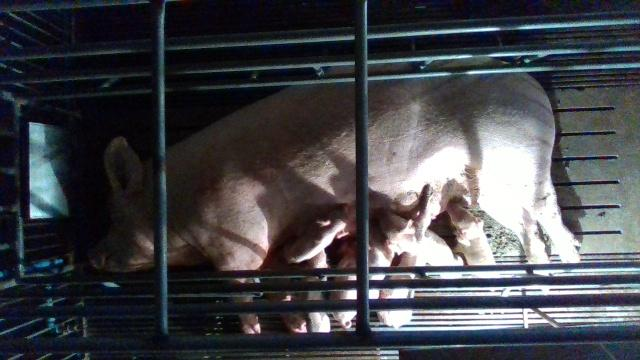piglet: (377, 208, 464, 279), (446, 204, 501, 292), (283, 203, 350, 264), (377, 251, 412, 329), (299, 249, 331, 333), (330, 240, 357, 329)
sow-sleep-lactate: (90, 56, 582, 332)
